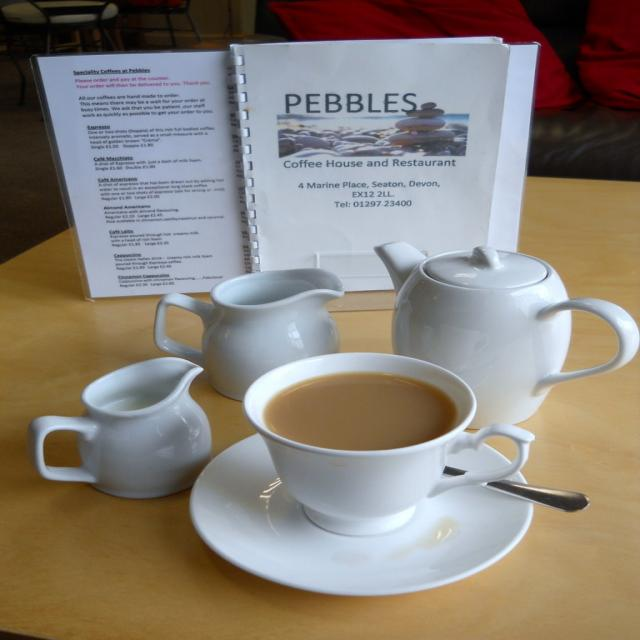Coffee: (257, 371, 457, 448)
Tea: (262, 371, 451, 453)
